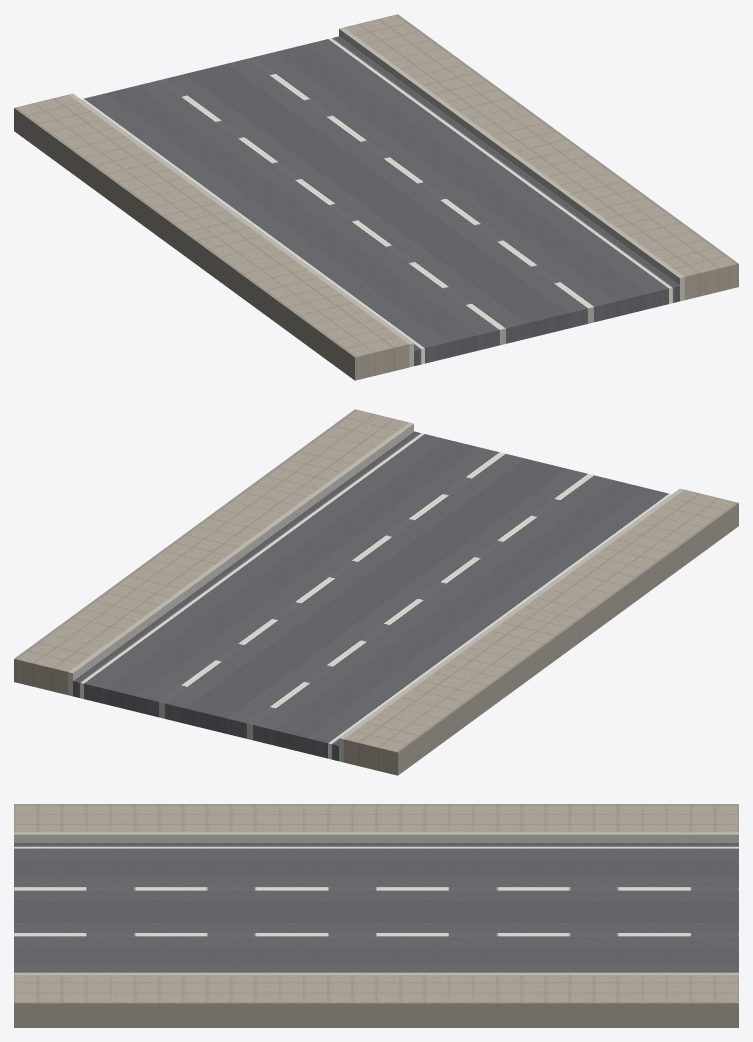
The model's file is Road_Segment.fbx.
3 renders of one model, top to bottom at view 1: azimuth 30°, elevation 25°; view 2: azimuth 150°, elevation 25°; view 3: azimuth 270°, elevation 25°, orthographic. The views are drawn at different scales.
Visible parts, largest first — view 1: Road_Segment; view 2: Road_Segment; view 3: Road_Segment.
Boxes of the visible parts, bbox=[...] form: Road_Segment: bbox=[14, 14, 738, 380]; Road_Segment: bbox=[14, 409, 738, 775]; Road_Segment: bbox=[14, 804, 738, 1027].
Bounding box in the file's own units: 780 × 45 × 1200.
1 material, 1 textured.
